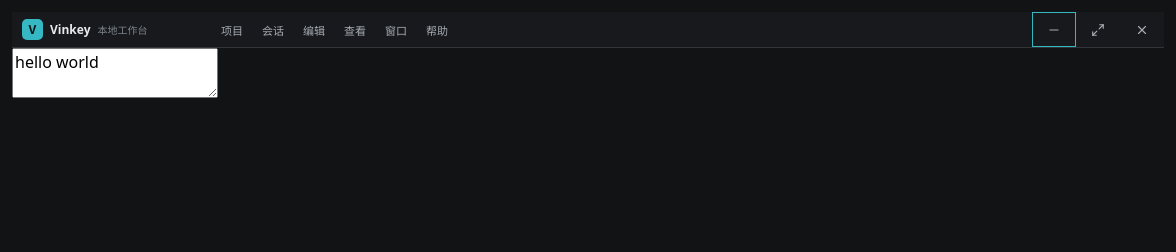
Test: Windows title-bar menu › disables edit commands after focus leaves editable content
Click the button "编辑". click: (314, 30)
box: left=294, top=16, right=334, bottom=42
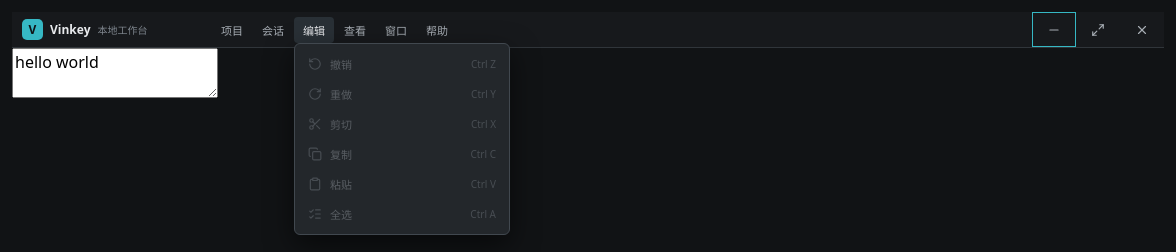
Check: the menu item "全选 Ctrl A" is disabled, box left=300, top=199, right=504, bottom=229
Check: the menu item "剪切 Ctrl X" is disabled, box left=300, top=109, right=504, bottom=139
